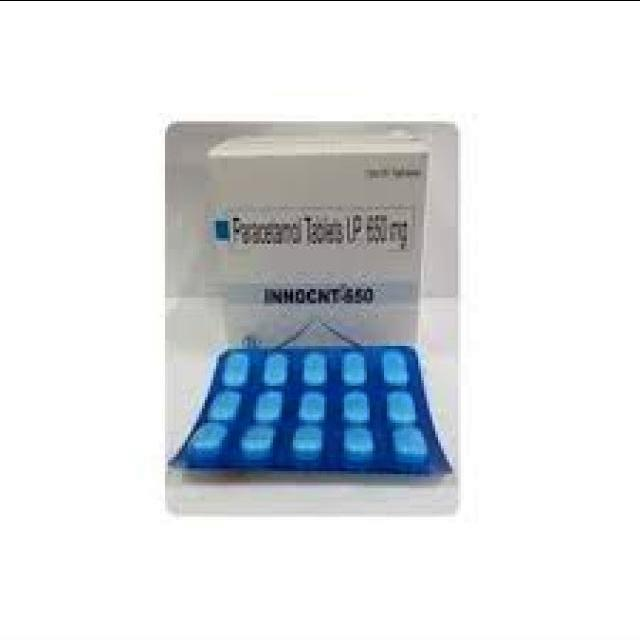authentic: (146, 113, 474, 528)
